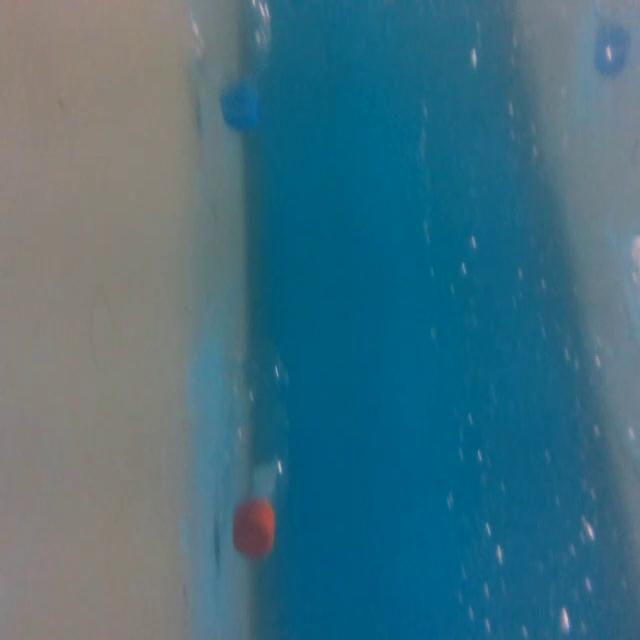plastic bottle: (219, 332, 299, 568), (175, 2, 288, 138)
